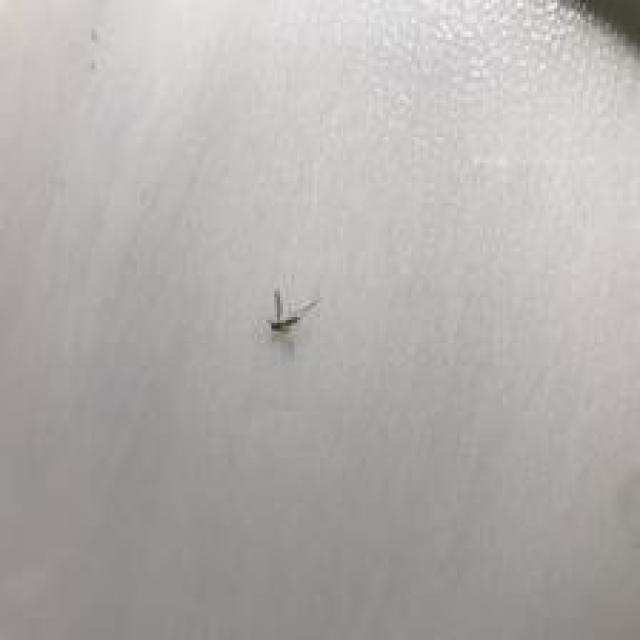Culex: (266, 287, 320, 336)
